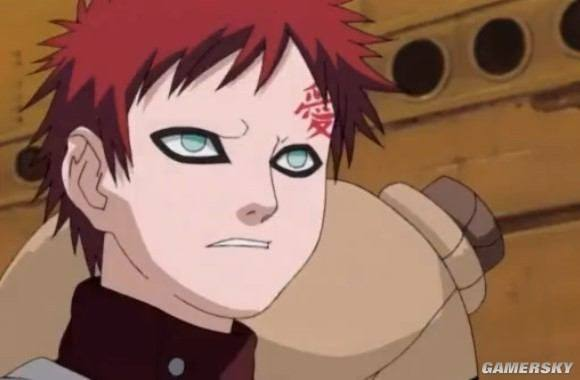gaara: (60, 22, 337, 322)
